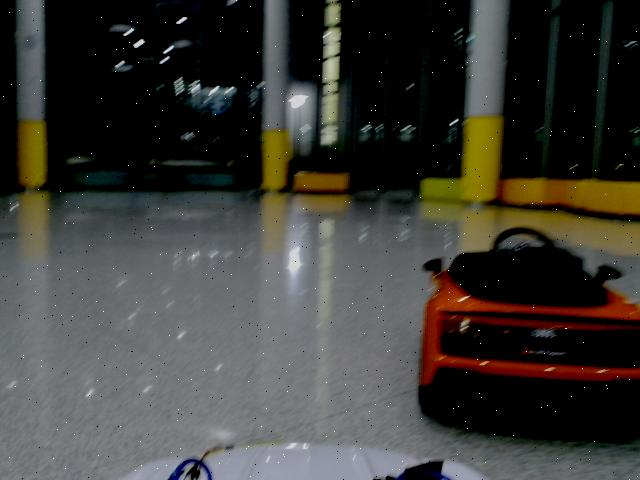car: (416, 227, 640, 423)
